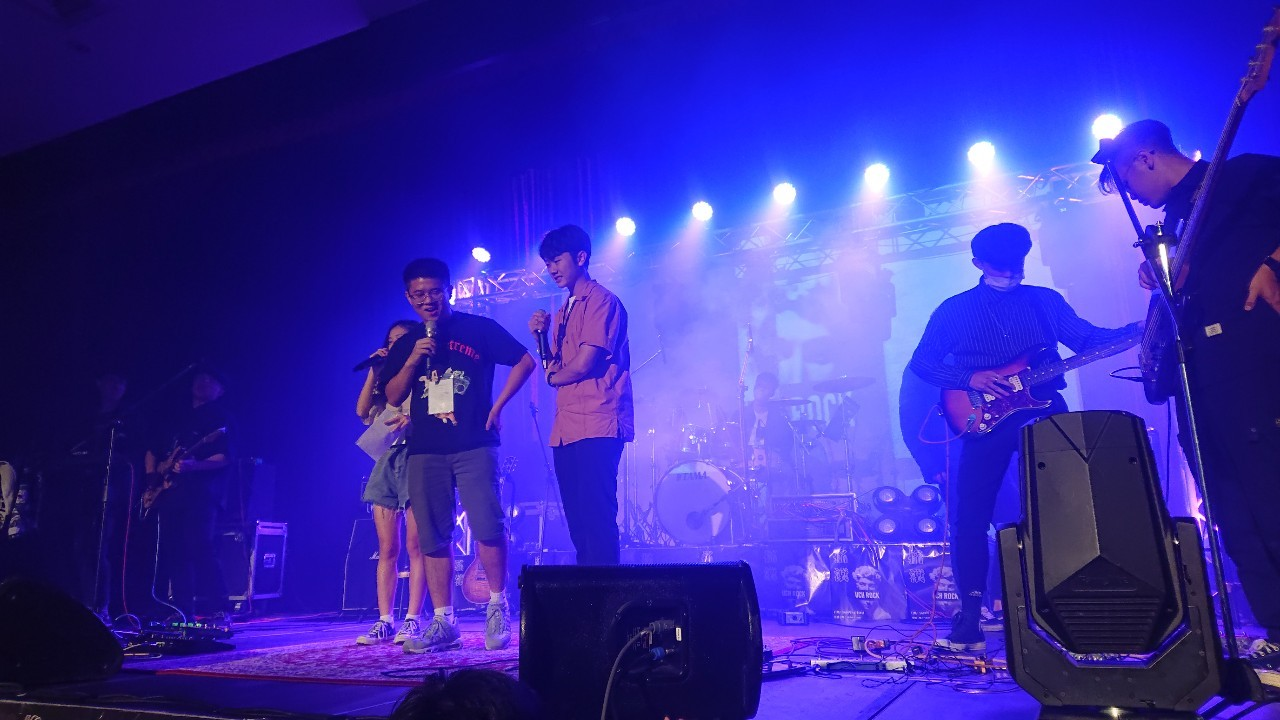people: (946, 220, 1069, 638), (402, 260, 515, 653), (533, 227, 646, 573), (355, 324, 429, 644)
